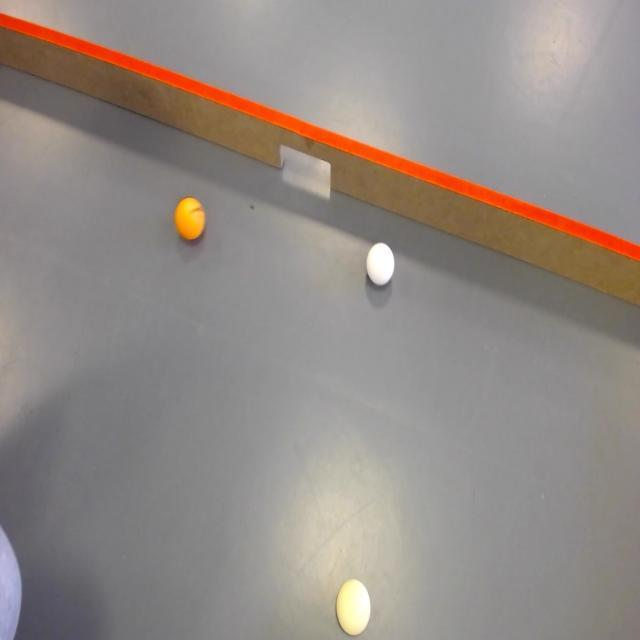orange-golf-balls: (173, 197, 205, 241)
white-golf-balls: (335, 579, 373, 638), (365, 242, 395, 286)
